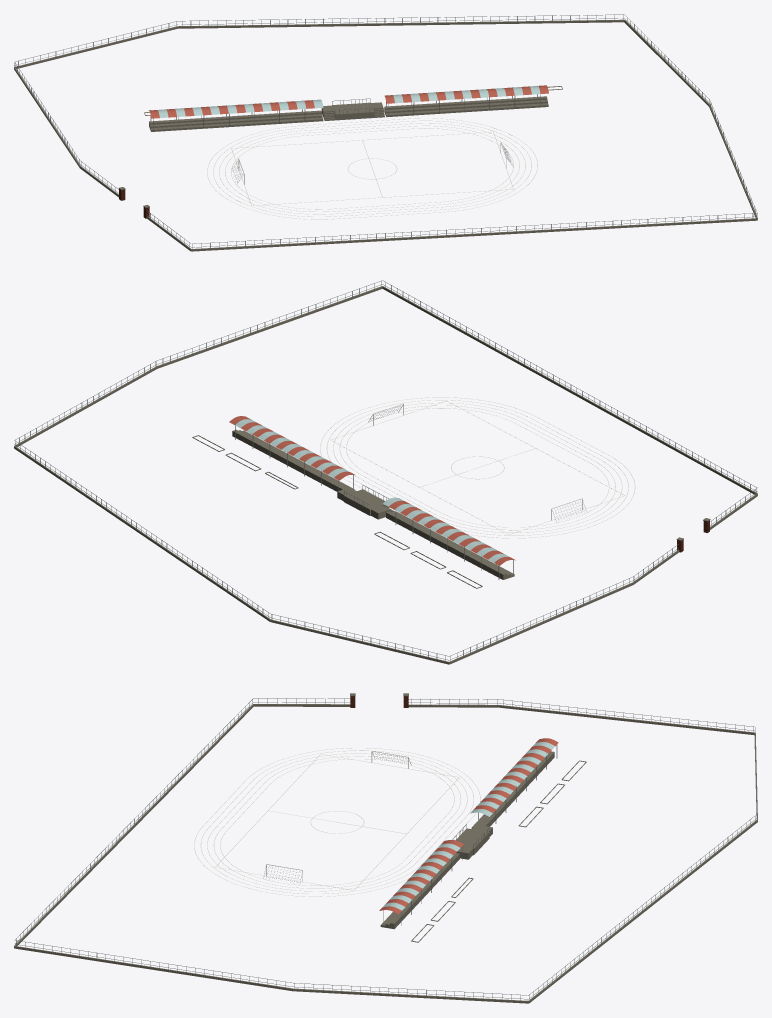
3 renders of one model, top to bottom at view 1: azimuth 30°, elevation 25°; view 2: azimuth 150°, elevation 25°; view 3: azimuth 270°, elevation 25°, orthographic. The views are drawn at different scales.
Parts seen in each view (by area): view 1: boundary-plinth__stand-concrete, boundary-rails__site-steel, track-lanes__line-paint, boundary-post__site-steel, canopy-west__canopy-red, canopy-west__canopy-pale-blue, canopy-east__canopy-red, stand-west-tread-1__stand-concrete, canopy-east__canopy-pale-blue, stand-east-tread-1__stand-concrete, stand-west-tread-3__stand-concrete, stand-west-tread-2__stand-concrete (+4 smaller); view 2: boundary-plinth__stand-concrete, boundary-rails__site-steel, track-lanes__line-paint, boundary-post__site-steel, stand-west-tread-3__stand-concrete, stand-east-tread-3__stand-concrete, canopy-west__canopy-red, canopy-west__canopy-pale-blue, canopy-east__canopy-red, canopy-east__canopy-pale-blue, football-lines__line-paint, assembly-platform__stand-concrete; view 3: boundary-plinth__stand-concrete, boundary-rails__site-steel, track-lanes__line-paint, boundary-post__site-steel, canopy-west__canopy-red, canopy-west__canopy-pale-blue, canopy-east__canopy-red, canopy-east__canopy-pale-blue, football-lines__line-paint, stand-west-tread-3__stand-concrete, stand-east-tread-3__stand-concrete, assembly-platform__stand-concrete.
Boxes of the visible parts, left/top/right/bottom form: boundary-plinth__stand-concrete: left=14, top=19, right=757, bottom=251; boundary-rails__site-steel: left=15, top=14, right=757, bottom=247; track-lanes__line-paint: left=207, top=118, right=537, bottom=219; boundary-post__site-steel: left=14, top=14, right=757, bottom=248; canopy-west__canopy-red: left=148, top=100, right=314, bottom=118; canopy-west__canopy-pale-blue: left=158, top=99, right=323, bottom=117; canopy-east__canopy-red: left=384, top=85, right=548, bottom=103; stand-west-tread-1__stand-concrete: left=150, top=117, right=323, bottom=131; canopy-east__canopy-pale-blue: left=393, top=86, right=540, bottom=103; stand-east-tread-1__stand-concrete: left=385, top=103, right=548, bottom=117; stand-west-tread-3__stand-concrete: left=149, top=110, right=321, bottom=127; stand-west-tread-2__stand-concrete: left=149, top=114, right=322, bottom=129; boundary-plinth__stand-concrete: left=14, top=286, right=757, bottom=664; boundary-rails__site-steel: left=14, top=280, right=757, bottom=660; track-lanes__line-paint: left=320, top=397, right=635, bottom=538; boundary-post__site-steel: left=15, top=281, right=756, bottom=661; stand-west-tread-3__stand-concrete: left=386, top=511, right=506, bottom=579; stand-east-tread-3__stand-concrete: left=232, top=429, right=346, bottom=491; canopy-west__canopy-red: left=388, top=500, right=515, bottom=565; canopy-west__canopy-pale-blue: left=382, top=497, right=509, bottom=562; canopy-east__canopy-red: left=229, top=416, right=355, bottom=480; canopy-east__canopy-pale-blue: left=235, top=419, right=349, bottom=477; football-lines__line-paint: left=330, top=401, right=624, bottom=534; assembly-platform__stand-concrete: left=343, top=489, right=389, bottom=515; boundary-plinth__stand-concrete: left=14, top=704, right=757, bottom=1003; boundary-rails__site-steel: left=14, top=698, right=757, bottom=999; track-lanes__line-paint: left=194, top=748, right=480, bottom=896; boundary-post__site-steel: left=16, top=698, right=757, bottom=1000; canopy-west__canopy-red: left=473, top=738, right=558, bottom=812; canopy-west__canopy-pale-blue: left=470, top=742, right=554, bottom=816; canopy-east__canopy-red: left=379, top=840, right=463, bottom=914; canopy-east__canopy-pale-blue: left=383, top=843, right=460, bottom=910; football-lines__line-paint: left=215, top=754, right=459, bottom=890; stand-west-tread-3__stand-concrete: left=481, top=751, right=554, bottom=826; stand-east-tread-3__stand-concrete: left=390, top=853, right=459, bottom=929; assembly-platform__stand-concrete: left=456, top=828, right=489, bottom=855.
Size of the model in its own units: 132 by 3.74 by 140.
Materials: 6 (2 with a texture image).
